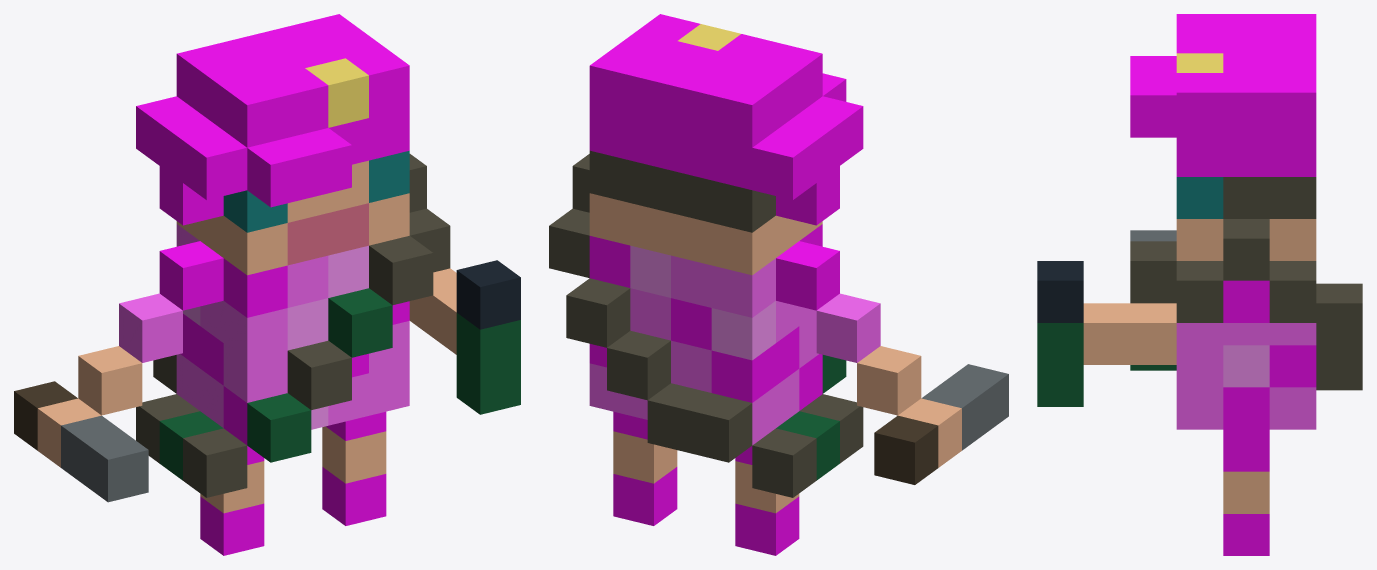
The model's file is commando.obj.
3 views of the same model, side by side, from view 1: azimuth 30°, elevation 25°; view 2: azimuth 150°, elevation 25°; view 3: azimuth 270°, elevation 25° (orthographic).
Bounding box in the file's own units: 0.9 × 1.1 × 0.7.
1 material, 1 textured.
